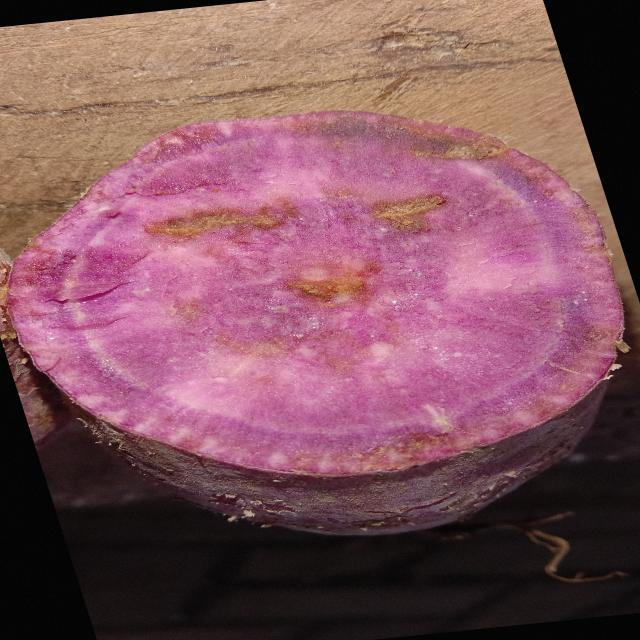Sick Sweet Potato_Tuber Rot: (9, 111, 622, 474)
